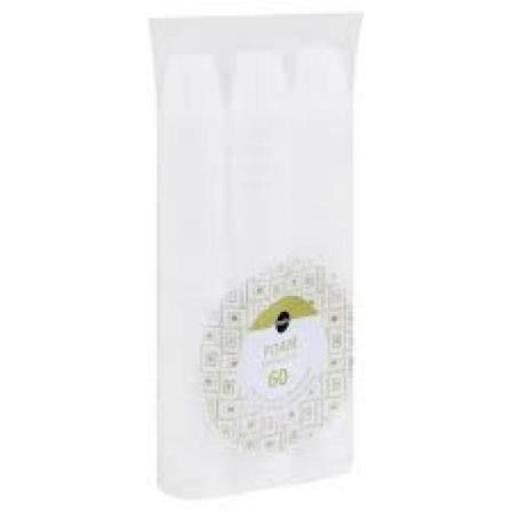paper: (144, 10, 368, 503)
